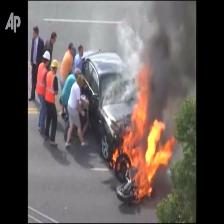fire: (124, 131, 168, 192)
smoke: (155, 23, 190, 116)
